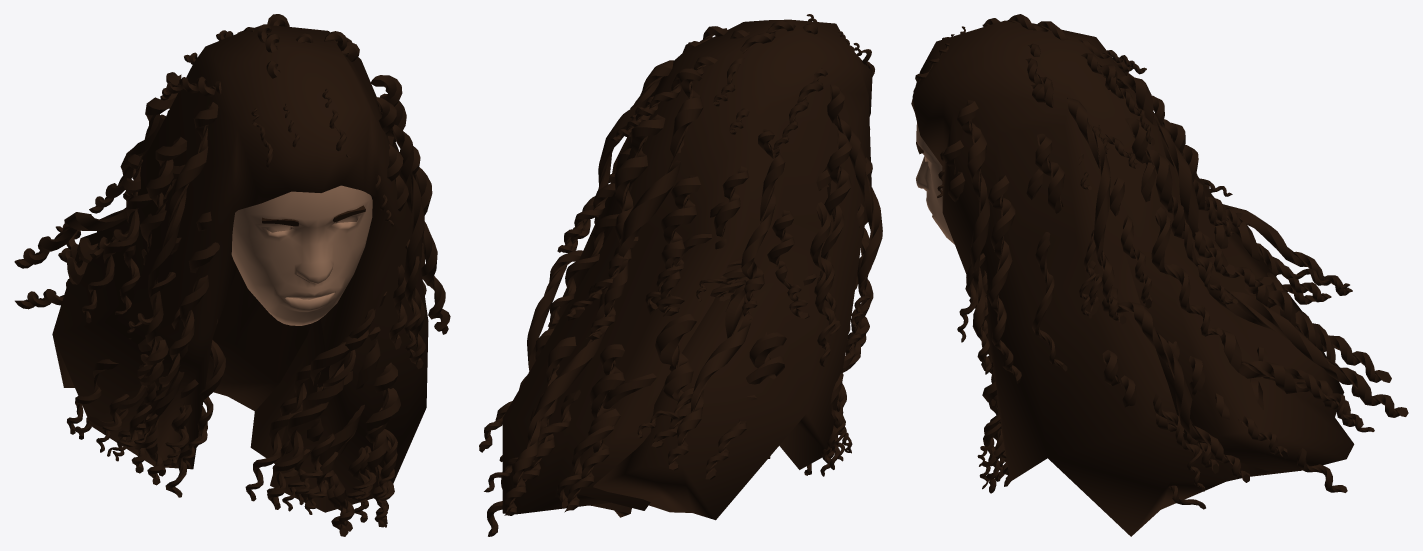
File: Vivian_Head.fbx
The picture shows the model from 3 angles, left to right: view 1: azimuth 30°, elevation 25°; view 2: azimuth 150°, elevation 25°; view 3: azimuth 270°, elevation 25°; orthographic projection. The views are drawn at different scales.
Visible parts, largest first — view 1: V_Head; view 2: V_Head; view 3: V_Head.
Part boxes in pixels (x1,y1,x2,y2): V_Head: (14,14,450,536); V_Head: (479,14,882,536); V_Head: (911,14,1408,536).
Bounding box in the file's own units: 31.57 × 49.73 × 47.54.
